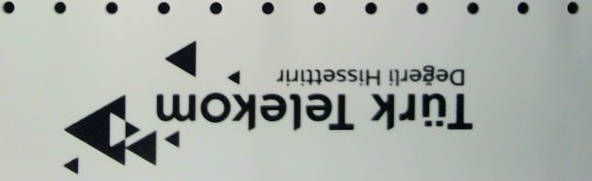AQ_TURKTelekom: (48, 41, 473, 177)
